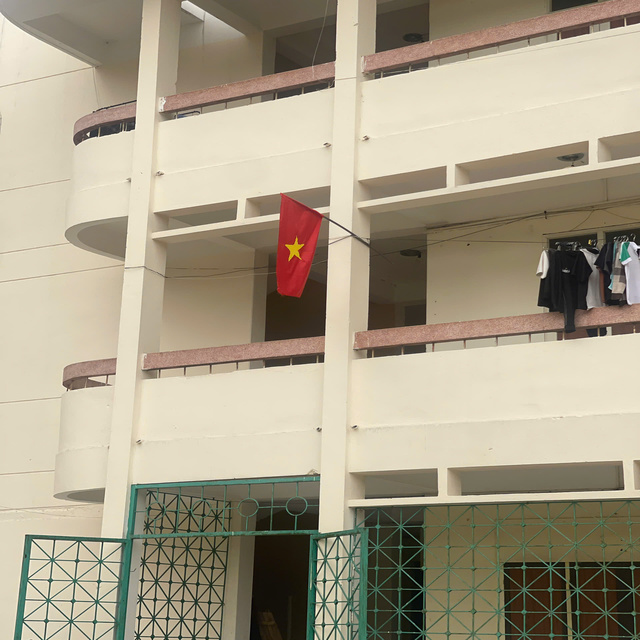laco: (267, 188, 325, 308)
